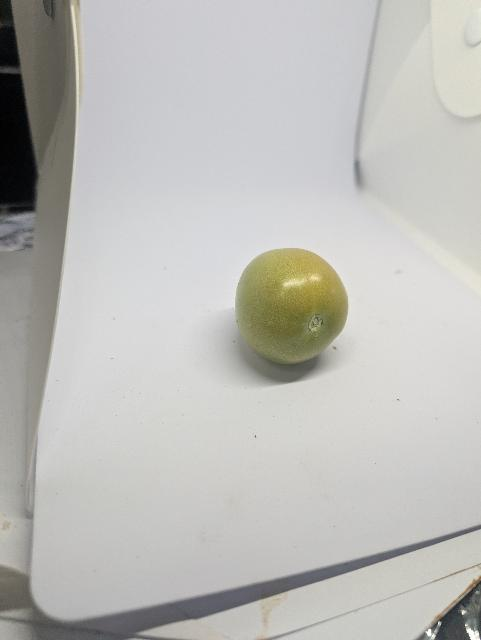green: (218, 218, 364, 384)
